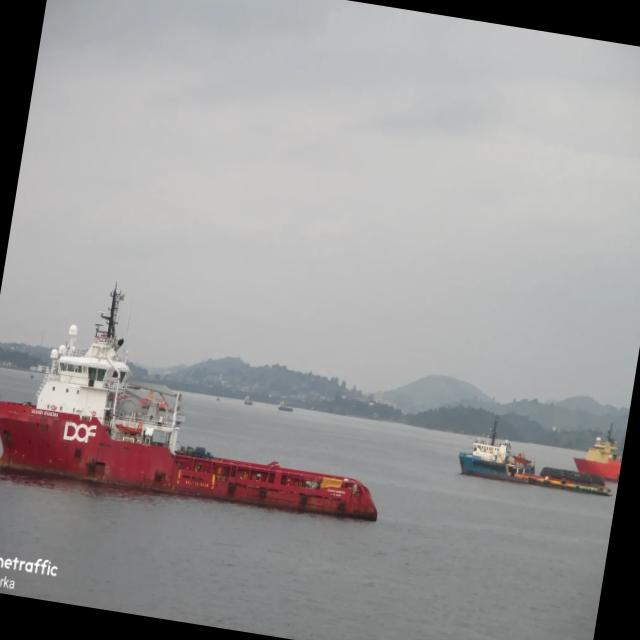Offshore: (0, 289, 377, 521), (575, 426, 621, 480)
